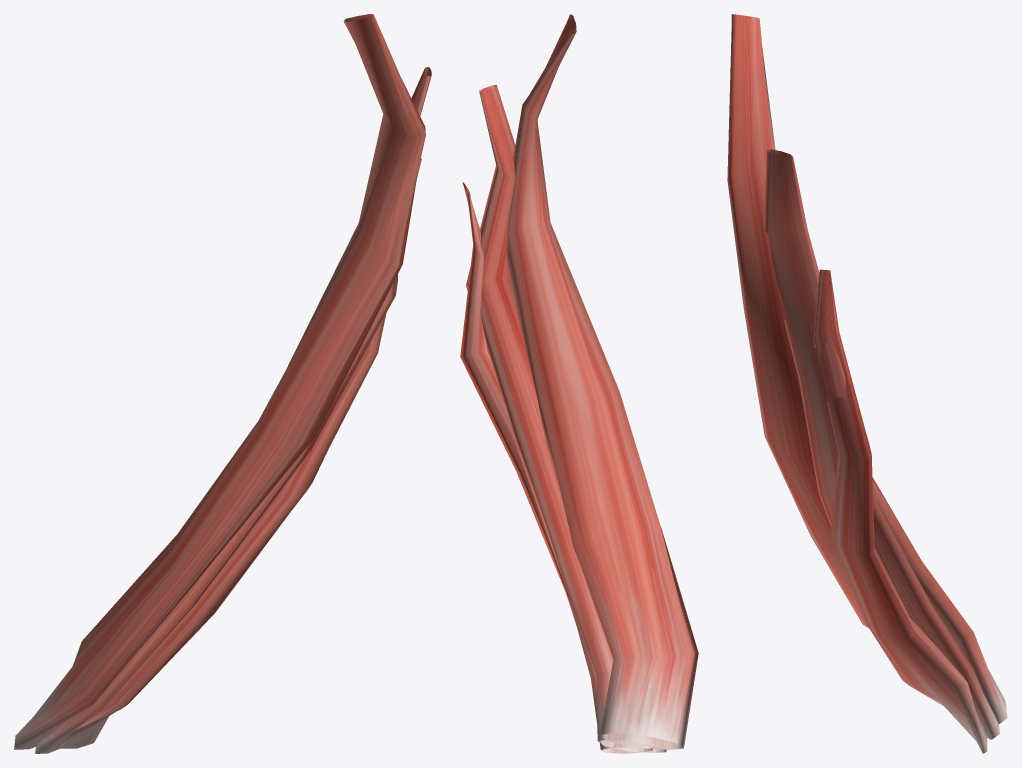
The model's file is Scalene_Muscle_Right.obj.
3 renders of one model, left to right at view 1: azimuth 30°, elevation 25°; view 2: azimuth 150°, elevation 25°; view 3: azimuth 270°, elevation 25°, orthographic. The views are drawn at different scales.
Visible parts, largest first — view 1: Scalene_Muscle_Right_03:Scalene_Muscle_Right_03_Mesh Scalene_Mus, Scalene_Muscle_Right_01:Scalene_Muscle_Right_01_Mesh Scalene_Mus, Scalene_Muscle_Right_02:Scalene_Muscle_Right_02_Mesh Scalene_Mus; view 2: Scalene_Muscle_Right_03:Scalene_Muscle_Right_03_Mesh Scalene_Mus, Scalene_Muscle_Right_02:Scalene_Muscle_Right_02_Mesh Scalene_Mus, Scalene_Muscle_Right_01:Scalene_Muscle_Right_01_Mesh Scalene_Mus; view 3: Scalene_Muscle_Right_03:Scalene_Muscle_Right_03_Mesh Scalene_Mus, Scalene_Muscle_Right_02:Scalene_Muscle_Right_02_Mesh Scalene_Mus, Scalene_Muscle_Right_01:Scalene_Muscle_Right_01_Mesh Scalene_Mus.
Part boxes in pixels (x1,y1,x2,y2): Scalene_Muscle_Right_03:Scalene_Muscle_Right_03_Mesh Scalene_Mus: [14, 14, 425, 749]; Scalene_Muscle_Right_01:Scalene_Muscle_Right_01_Mesh Scalene_Mus: [60, 158, 421, 748]; Scalene_Muscle_Right_02:Scalene_Muscle_Right_02_Mesh Scalene_Mus: [35, 67, 431, 753]; Scalene_Muscle_Right_03:Scalene_Muscle_Right_03_Mesh Scalene_Mus: [506, 14, 698, 749]; Scalene_Muscle_Right_02:Scalene_Muscle_Right_02_Mesh Scalene_Mus: [466, 85, 666, 752]; Scalene_Muscle_Right_01:Scalene_Muscle_Right_01_Mesh Scalene_Mus: [460, 182, 652, 753]; Scalene_Muscle_Right_03:Scalene_Muscle_Right_03_Mesh Scalene_Mus: [727, 14, 1007, 723]; Scalene_Muscle_Right_02:Scalene_Muscle_Right_02_Mesh Scalene_Mus: [764, 149, 999, 739]; Scalene_Muscle_Right_01:Scalene_Muscle_Right_01_Mesh Scalene_Mus: [813, 269, 987, 753].
Bounding box in the file's own units: 0.6314 × 1.38 × 0.426.
